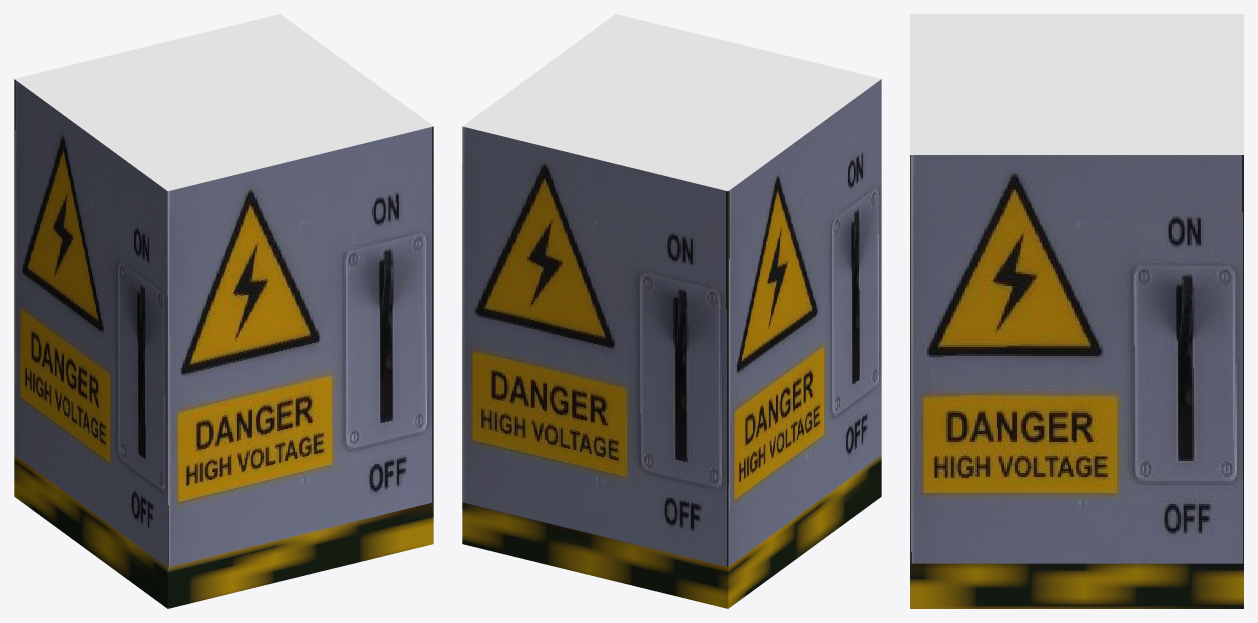
File: HighVoltage.glb
The picture shows the model from 3 angles, left to right: view 1: azimuth 30°, elevation 25°; view 2: azimuth 150°, elevation 25°; view 3: azimuth 270°, elevation 25°; orthographic projection. The views are drawn at different scales.
Parts seen in each view (by area): view 1: Cube; view 2: Cube; view 3: Cube.
Part boxes in pixels (x1,y1,x2,y2): Cube: (14,14,433,608); Cube: (462,14,881,608); Cube: (910,14,1243,608).
Bounding box in the file's own units: 2 × 3 × 2.
3 materials, 2 textured.
